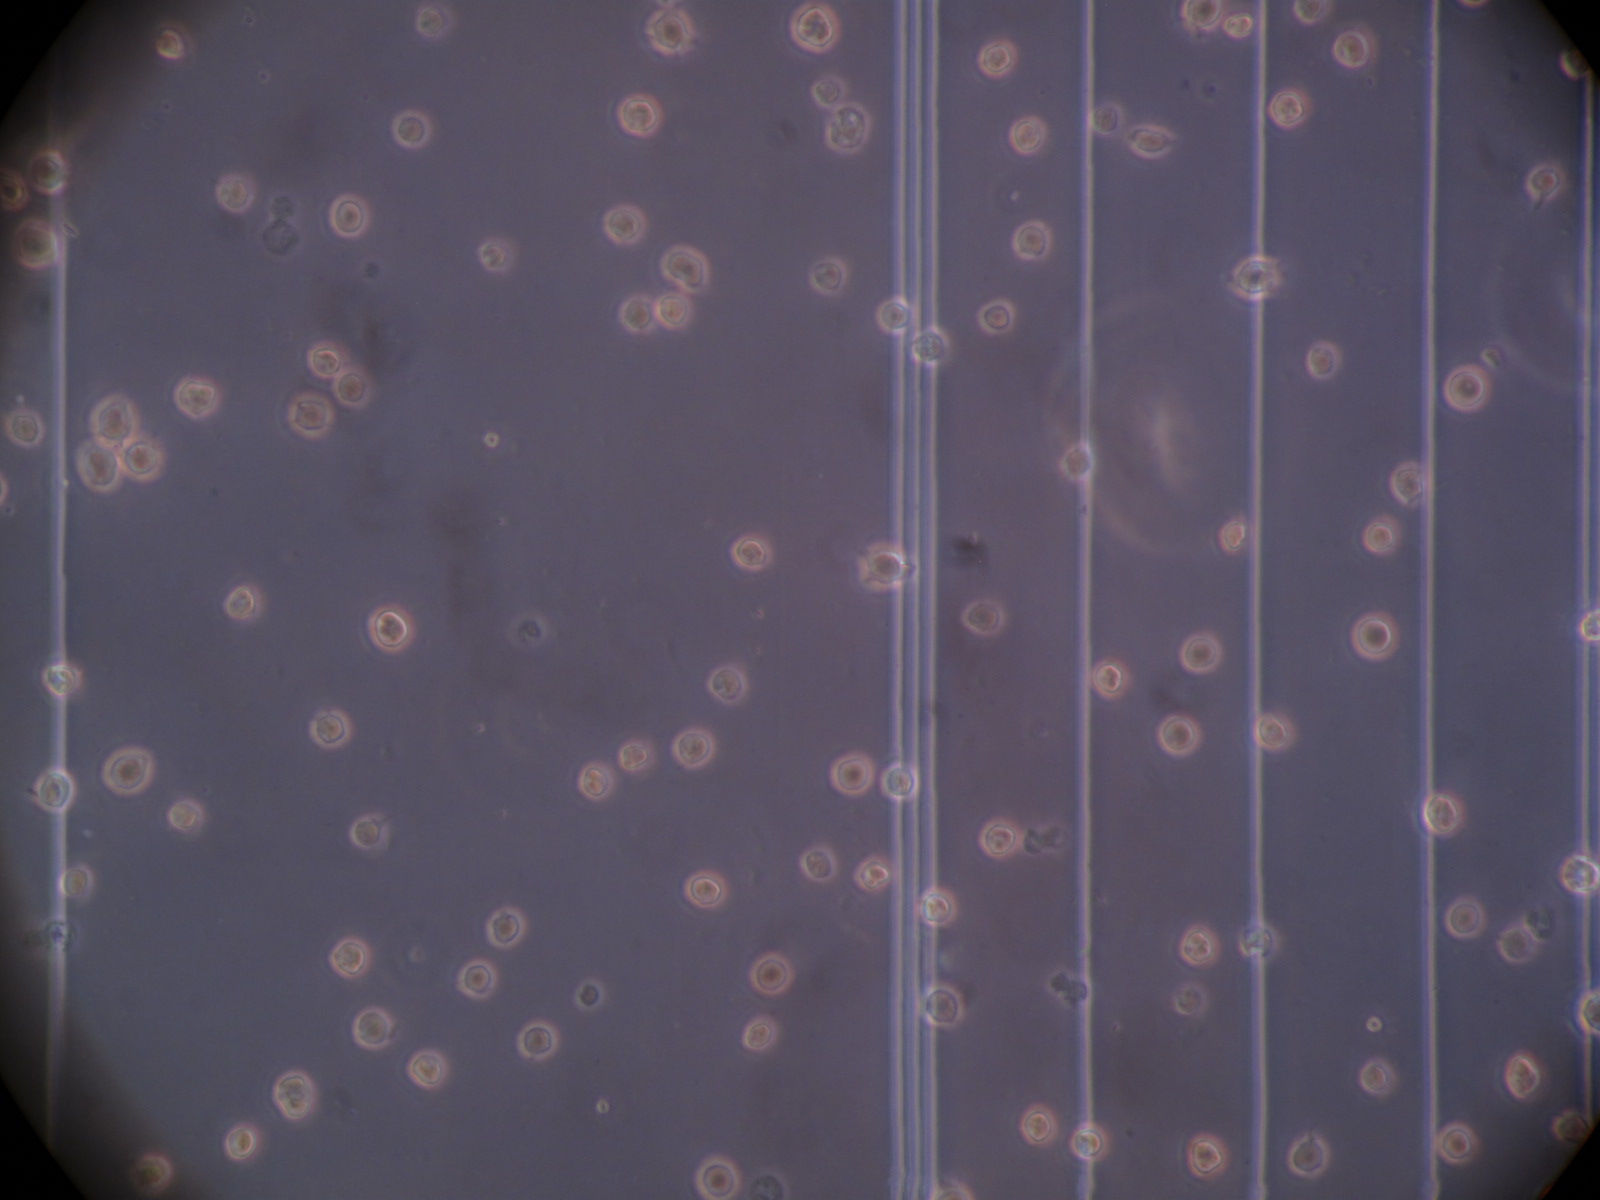hemo: (88, 391, 139, 447), (789, 1, 840, 55), (855, 541, 907, 595), (74, 436, 121, 495), (10, 221, 60, 274), (101, 747, 152, 797), (113, 436, 165, 485), (659, 245, 711, 292), (367, 603, 414, 653), (1230, 258, 1285, 301), (825, 101, 868, 156), (1351, 611, 1398, 661), (287, 391, 335, 440), (1157, 710, 1204, 758), (644, 8, 692, 55), (694, 1153, 743, 1200), (1333, 23, 1380, 71), (1444, 367, 1490, 413), (922, 983, 966, 1031), (154, 21, 198, 69), (1186, 1132, 1230, 1179), (130, 1153, 176, 1197), (174, 376, 220, 420), (1435, 1121, 1479, 1166), (671, 726, 716, 771), (328, 935, 372, 981), (1390, 460, 1430, 509), (272, 1071, 312, 1121), (617, 93, 661, 137), (750, 953, 794, 997), (1421, 792, 1464, 836), (1288, 1134, 1332, 1177), (1180, 630, 1223, 674), (602, 203, 646, 246), (830, 753, 874, 795), (978, 816, 1022, 858), (24, 147, 66, 193), (1443, 897, 1487, 939), (1175, 924, 1220, 966), (456, 955, 496, 1001), (330, 193, 370, 238), (35, 766, 74, 813), (333, 366, 374, 408), (1267, 89, 1311, 130), (1506, 1049, 1541, 1099), (353, 1007, 393, 1051), (959, 599, 1005, 637), (1124, 124, 1175, 158), (916, 885, 957, 926), (517, 1020, 558, 1061), (311, 708, 353, 750), (707, 666, 750, 706), (222, 580, 265, 620), (486, 905, 525, 949), (223, 1122, 263, 1163), (4, 406, 44, 447), (406, 1050, 449, 1089), (1560, 853, 1600, 894), (1238, 920, 1279, 961), (1010, 221, 1051, 261), (911, 326, 951, 367), (809, 257, 849, 297), (874, 295, 913, 337), (617, 292, 656, 334), (1254, 713, 1296, 751), (305, 340, 344, 381), (392, 110, 431, 150), (1361, 516, 1398, 557), (1551, 1109, 1592, 1147), (1017, 1104, 1054, 1146), (1524, 161, 1563, 200), (1358, 1056, 1397, 1095), (351, 812, 391, 851), (1305, 339, 1342, 381), (1092, 658, 1129, 700), (975, 299, 1017, 335), (729, 534, 772, 570), (1495, 926, 1534, 964), (1071, 1122, 1110, 1160), (654, 292, 693, 330), (879, 761, 917, 800), (853, 855, 892, 892), (797, 847, 838, 884), (215, 175, 256, 212), (740, 1015, 779, 1051), (685, 871, 724, 908), (979, 40, 1017, 77), (414, 3, 454, 38), (580, 761, 615, 799), (1012, 118, 1047, 155), (810, 74, 847, 110), (477, 238, 515, 272), (1180, 1, 1225, 30), (1089, 101, 1124, 136), (1058, 446, 1095, 480), (617, 737, 654, 771), (42, 666, 81, 697), (58, 863, 93, 897), (1170, 982, 1207, 1015), (1, 168, 29, 211), (168, 799, 202, 833), (1220, 519, 1250, 553), (1577, 989, 1600, 1035), (574, 978, 605, 1011), (1293, 1, 1332, 26), (931, 1179, 970, 1200), (1225, 14, 1254, 40), (1580, 608, 1600, 640), (1366, 1015, 1383, 1035)
